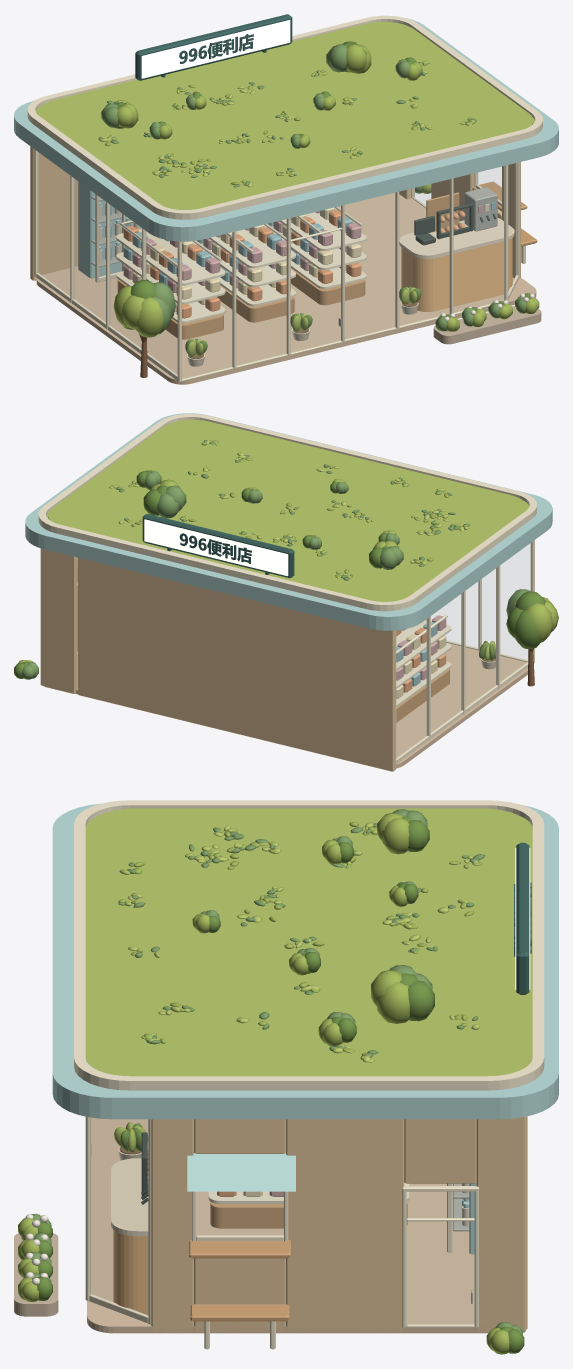
File: 13-B-dec7c3ecd5fd.glb
3 renders of one model, top to bottom at view 1: azimuth 30°, elevation 25°; view 2: azimuth 150°, elevation 25°; view 3: azimuth 270°, elevation 25°, orthographic. The views are drawn at different scales.
Parts seen in each view (by area): view 1: L 连续薄植生层, S 室内楼面, R 薄荷圆角檐带, R 奶油绿顶包边, I 食品包装, I 商品岛层板, L 地被与灌丛, I 圆角收银柜, A 连续前玻璃, A 后墙, A 左侧玻璃, I 商品岛底柜 (+17 smaller); view 2: A 后墙, L 连续薄植生层, R 薄荷圆角檐带, R 奶油绿顶包边, S 室内楼面, A 后门侧墙, L 地被与灌丛, A 左侧玻璃, D 996发光面板, L 乔木 · 枝干与树冠, L 自然成簇小地被, I 食品包装 (+6 smaller); view 3: L 连续薄植生层, A 东侧实墙, R 薄荷圆角檐带, R 奶油绿顶包边, S 室内楼面, L 地被与灌丛, L 自然成簇小地被, A 取餐窗下, A 后门过梁, R 快取小雨棚, A 取餐窗过梁, I 圆角收银柜 (+12 smaller).
Boxes of the visible parts, x1=… form: L 连续薄植生层: x1=37, y1=21, x2=533, y2=209; S 室内楼面: x1=36, y1=192, x2=536, y2=384; R 薄荷圆角檐带: x1=14, y1=18, x2=558, y2=241; R 奶油绿顶包边: x1=27, y1=15, x2=542, y2=219; I 食品包装: x1=123, y1=207, x2=361, y2=318; I 商品岛层板: x1=116, y1=212, x2=366, y2=323; L 地被与灌丛: x1=101, y1=41, x2=539, y2=331; I 圆角收银柜: x1=401, y1=238, x2=512, y2=311; A 连续前玻璃: x1=179, y1=165, x2=507, y2=382; A 后墙: x1=30, y1=146, x2=78, y2=280; A 左侧玻璃: x1=34, y1=149, x2=181, y2=382; I 商品岛底柜: x1=117, y1=268, x2=365, y2=339; A 后墙: x1=78, y1=557, x2=395, y2=771; L 连续薄植生层: x1=48, y1=419, x2=527, y2=601; R 薄荷圆角檐带: x1=25, y1=413, x2=552, y2=630; R 奶油绿顶包边: x1=38, y1=414, x2=536, y2=611; S 室内楼面: x1=75, y1=643, x2=527, y2=768; A 后门侧墙: x1=44, y1=549, x2=77, y2=693; L 地被与灌丛: x1=14, y1=470, x2=403, y2=679; A 左侧玻璃: x1=396, y1=540, x2=534, y2=763; D 996发光面板: x1=144, y1=519, x2=288, y2=576; L 乔木 · 枝干与树冠: x1=506, y1=589, x2=558, y2=686; L 自然成簇小地被: x1=109, y1=439, x2=469, y2=580; I 食品包装: x1=396, y1=615, x2=446, y2=698; L 连续薄植生层: x1=85, y1=808, x2=532, y2=1076; A 东侧实墙: x1=151, y1=1116, x2=525, y2=1332; R 薄荷圆角檐带: x1=52, y1=803, x2=558, y2=1119; R 奶油绿顶包边: x1=74, y1=800, x2=544, y2=1090; S 室内楼面: x1=87, y1=1117, x2=495, y2=1333; L 地被与灌丛: x1=18, y1=809, x2=524, y2=1354; L 自然成簇小地被: x1=118, y1=822, x2=484, y2=1062; A 取餐窗下: x1=194, y1=1258, x2=285, y2=1331; A 后门过梁: x1=404, y1=1119, x2=476, y2=1183; R 快取小雨棚: x1=187, y1=1153, x2=295, y2=1191; A 取餐窗过梁: x1=194, y1=1119, x2=285, y2=1153; I 圆角收银柜: x1=113, y1=1230, x2=148, y2=1315.
Bounding box in the file's own units: 22.85 × 10.14 × 16.57.
